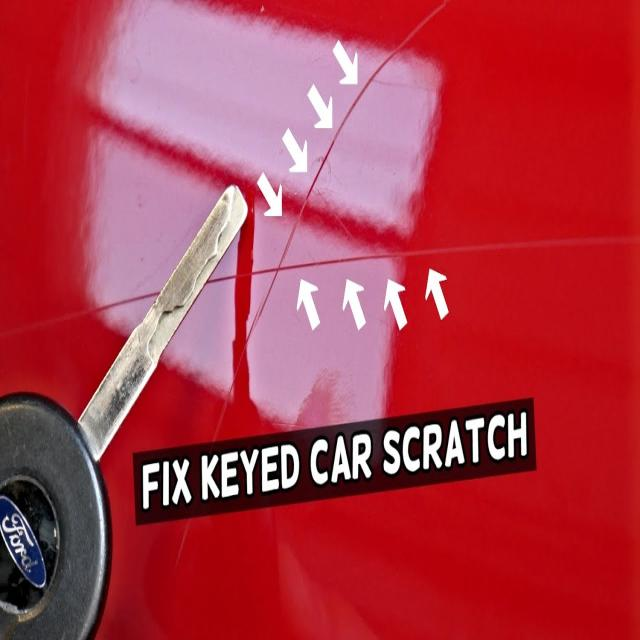scratch: (0, 0, 640, 574)
